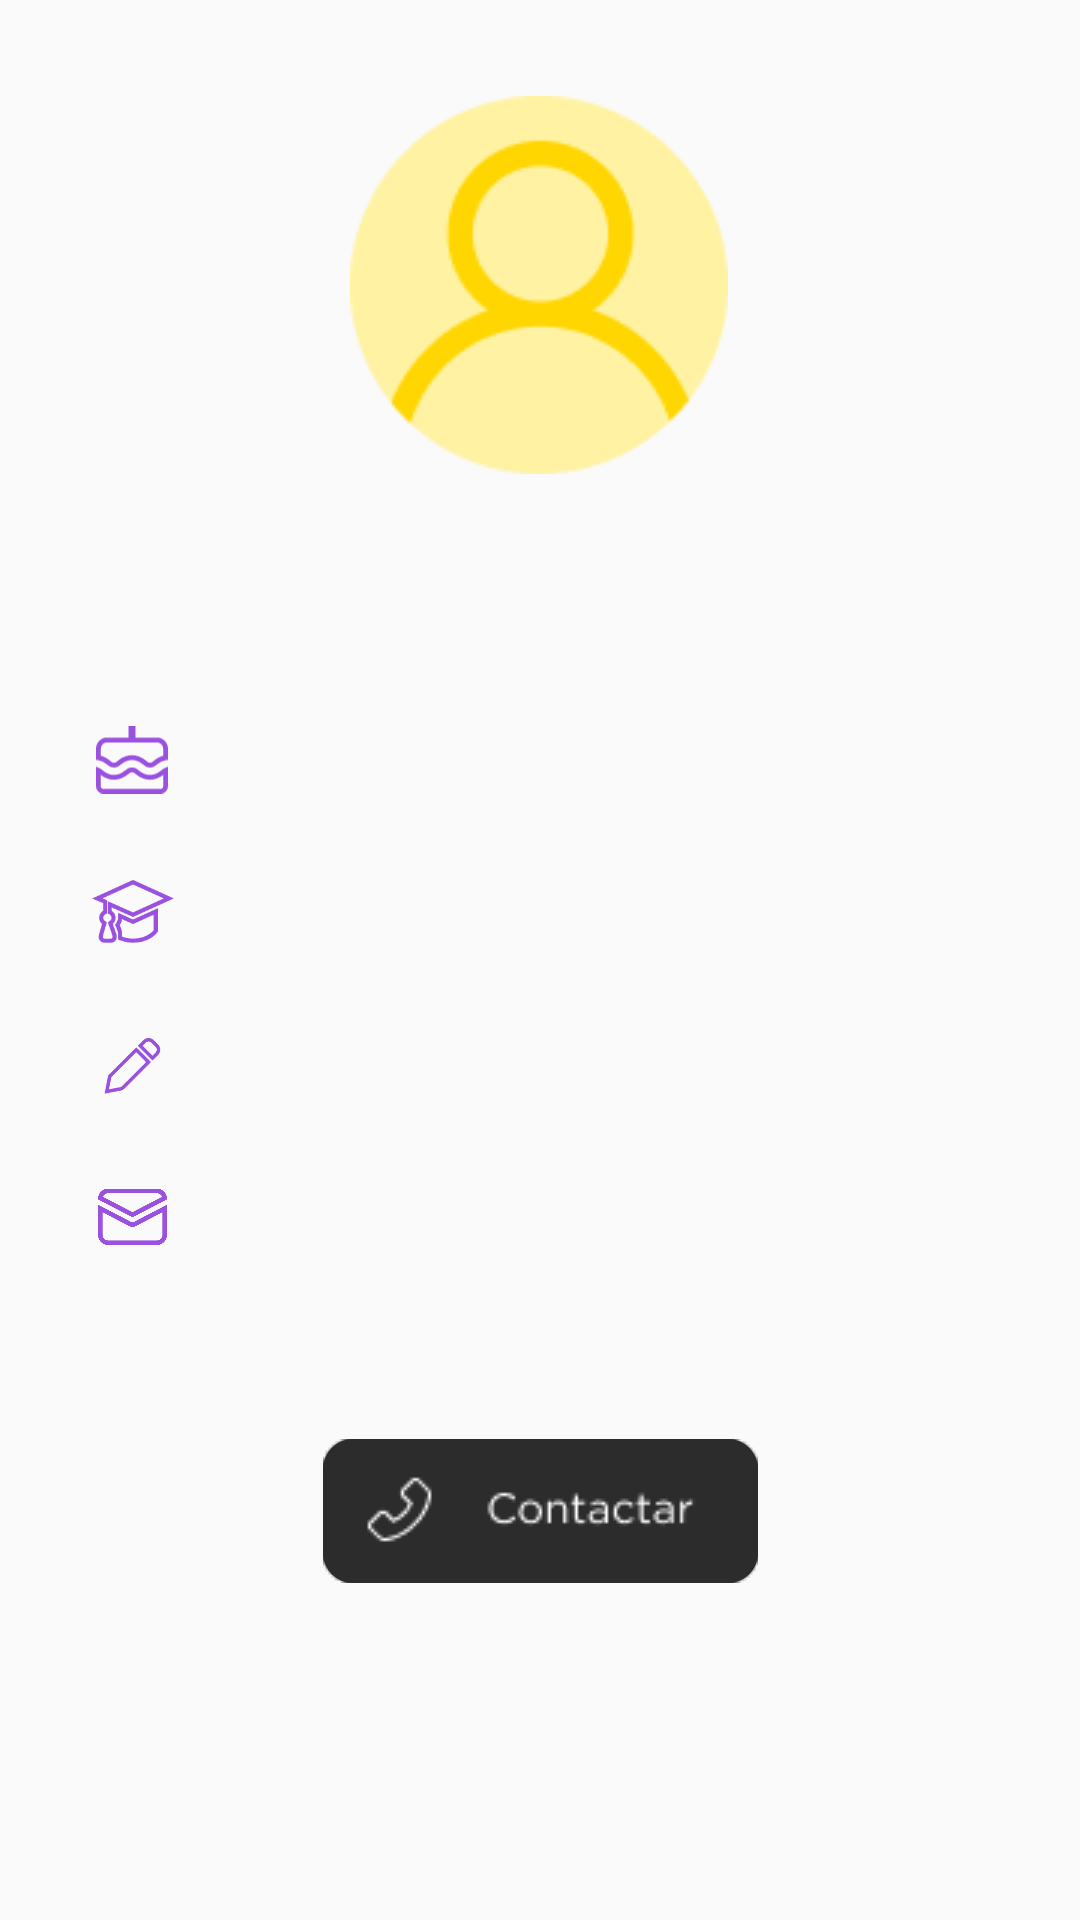

Where icons sit on this 1080×1920 app screen, as (x1, y1, x2, y2):
birrete: (92, 880, 174, 943)
email: (98, 1189, 167, 1245)
lapiz: (104, 1038, 161, 1094)
torta: (96, 726, 168, 794)
